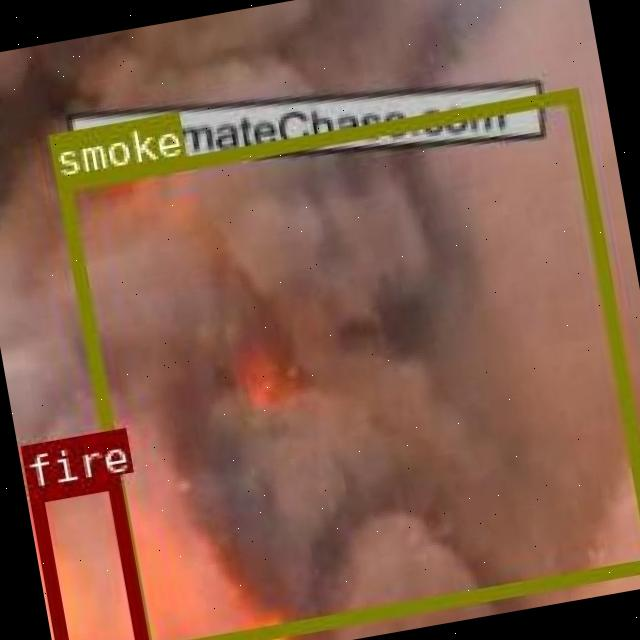fire: (24, 472, 148, 640)
smoke: (55, 86, 640, 640)
